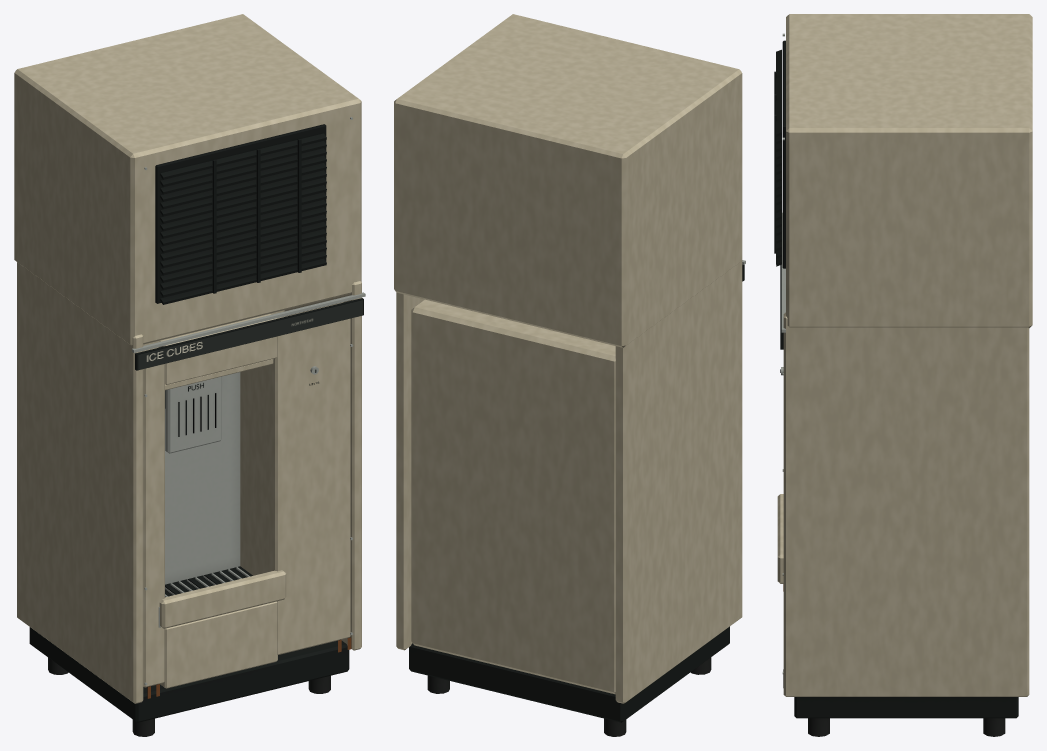
The model's file is vegas_ice_machine.glb.
3 views of the same model, side by side, from view 1: azimuth 30°, elevation 25°; view 2: azimuth 150°, elevation 25°; view 3: azimuth 270°, elevation 25° (orthographic). The views are drawn at different scales.
Parts seen in each view (by area): view 1: vegas_ice_machine_Body, Nameplate; view 2: vegas_ice_machine_Body; view 3: vegas_ice_machine_Body.
Boxes of the visible parts, box(x1,y1,x2,y2) form: vegas_ice_machine_Body: box(14, 14, 365, 736); Nameplate: box(138, 300, 362, 369); vegas_ice_machine_Body: box(394, 14, 745, 736); vegas_ice_machine_Body: box(774, 14, 1032, 736).
Bounding box in the file's own units: 0.79 × 1.94 × 0.7375.
2 materials, 2 textured.
